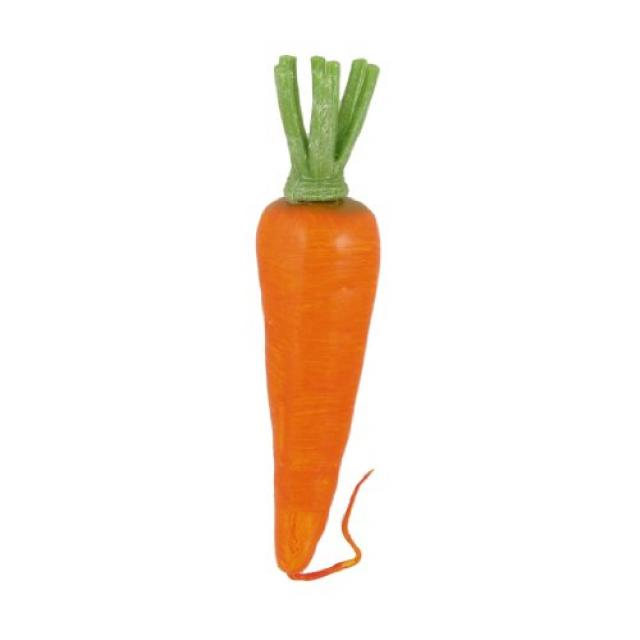Carrot: (264, 63, 380, 579)
